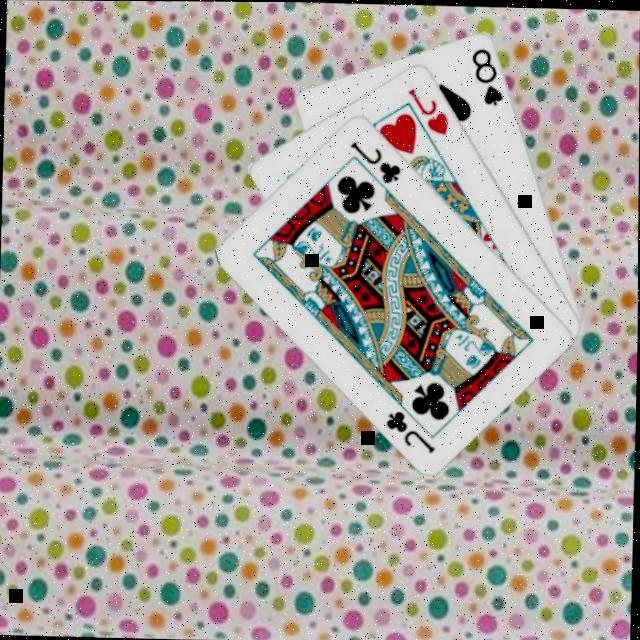8S: (468, 45, 508, 110)
JC: (346, 138, 406, 187), (383, 407, 440, 458)
JH: (403, 85, 452, 138)
